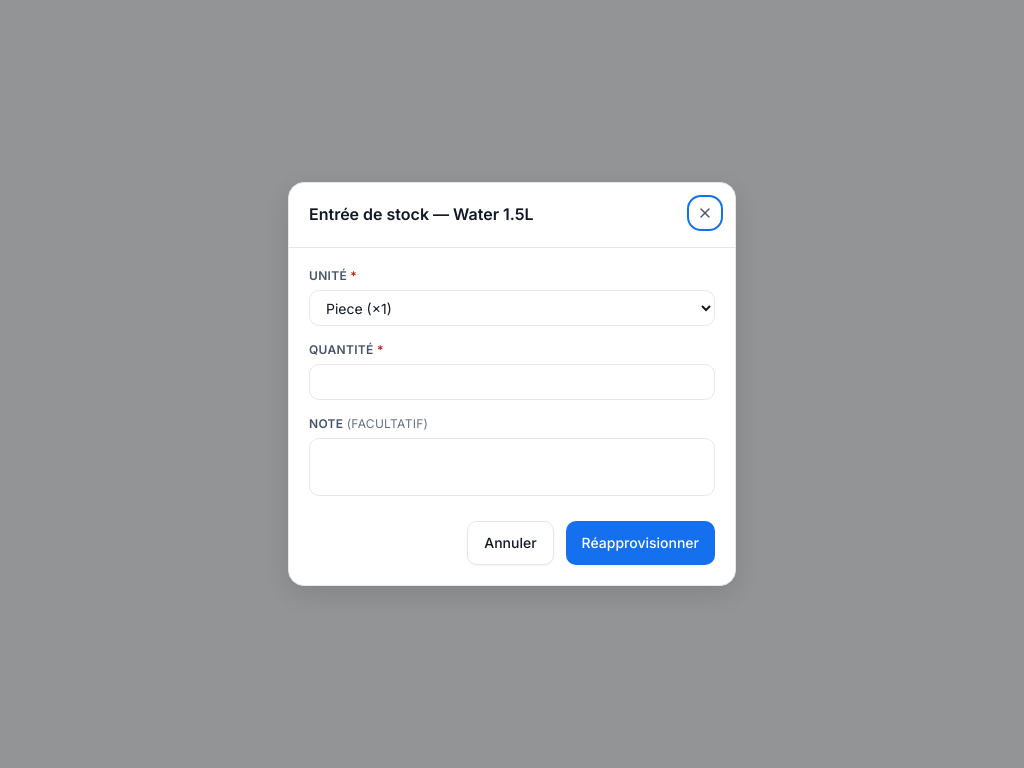
it: RestockModal mutation error path › renders mapped PRODUCT_INACTIVE after RPC error
In the number field: x=512, y=382 x1=309 y1=364 x2=715 y2=400, type "2"
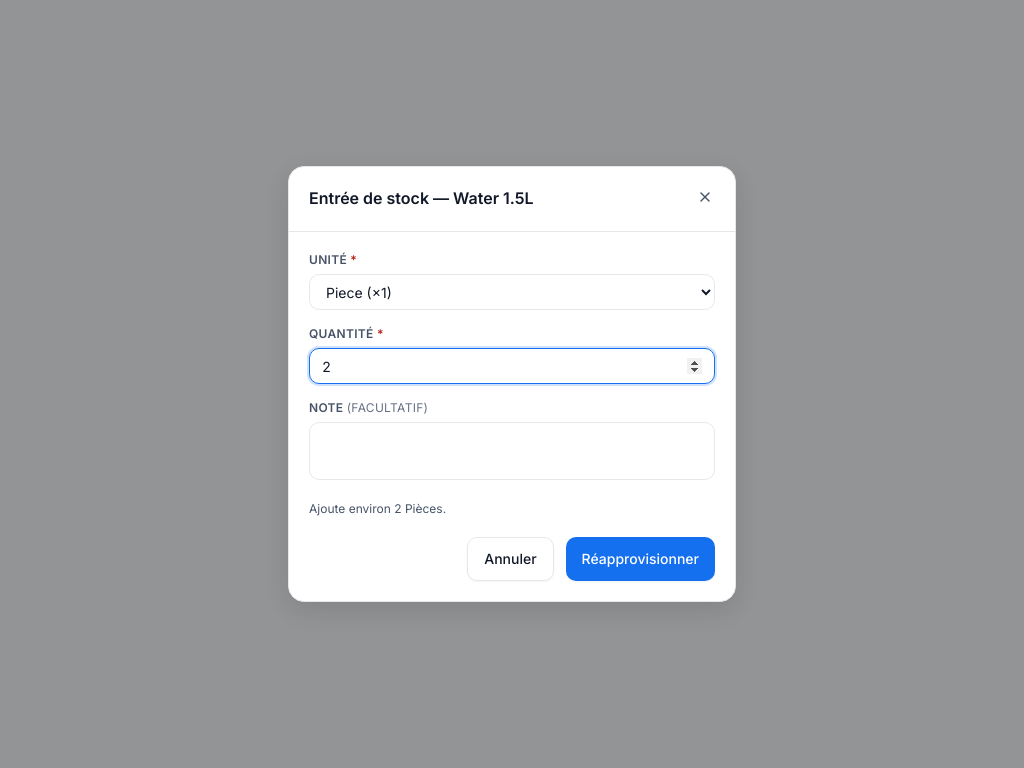
Click the button "Réapprovisionner": x=640, y=559 x1=566 y1=537 x2=715 y2=581
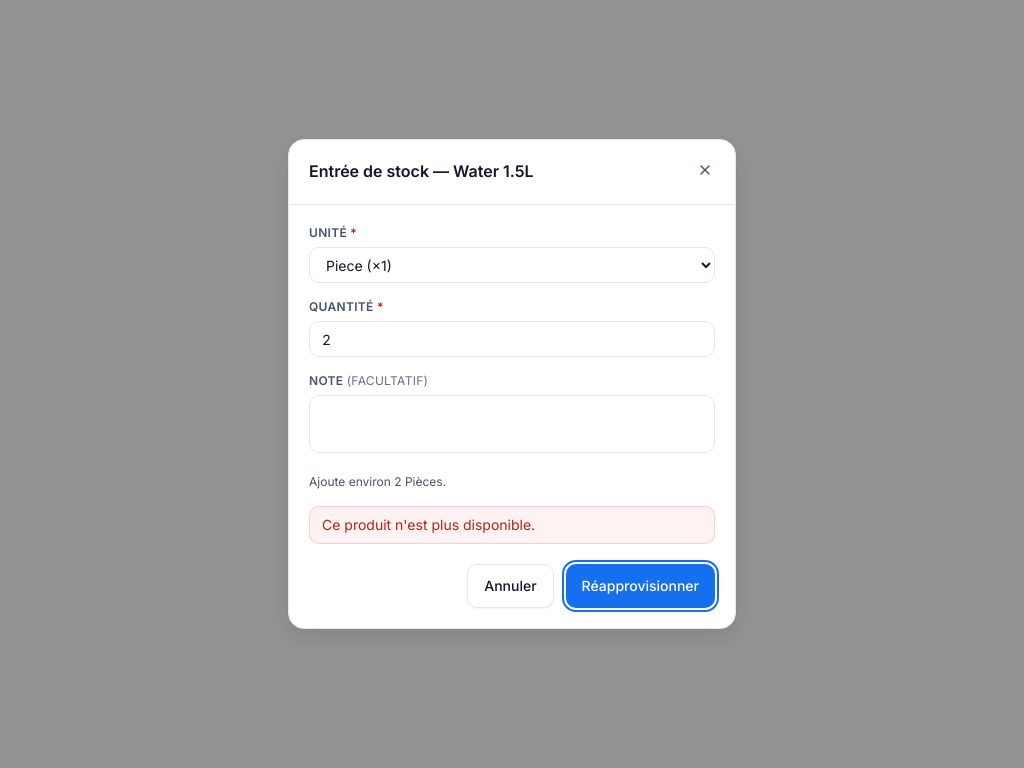
Expected: the text "Ce produit n'est plus disponible." is shown, x1=322 y1=516 x2=535 y2=533
